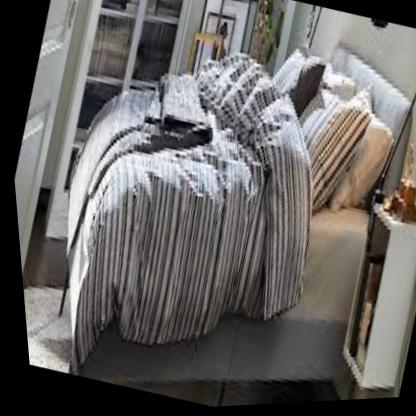Bed: (13, 0, 416, 413)
Nightstand: (311, 187, 416, 404)
